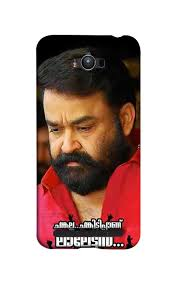asus: (34, 29, 145, 254)
